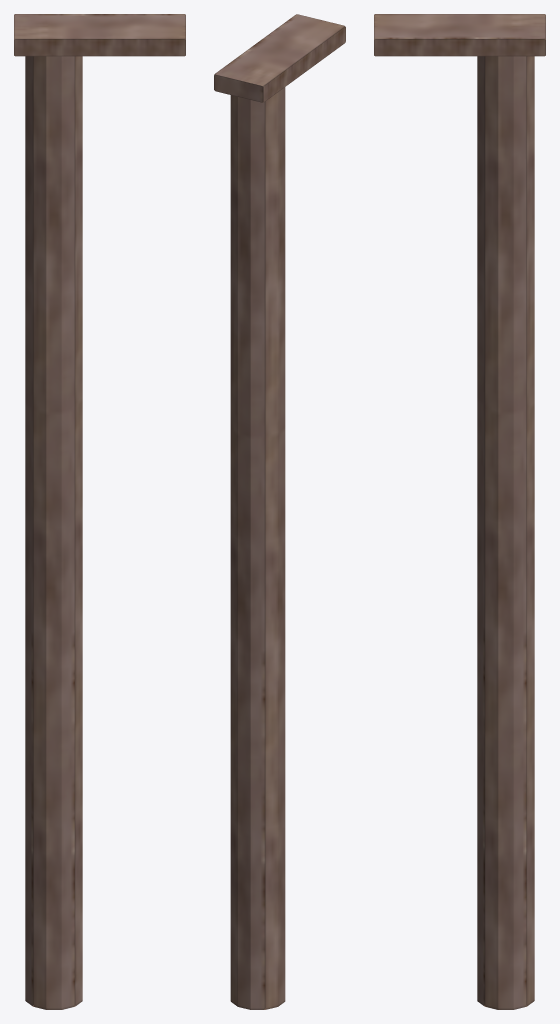
Rendered from lamppost.obj.
The picture shows the model from 3 angles, left to right: view 1: azimuth 90°, elevation 25°; view 2: azimuth 150°, elevation 25°; view 3: azimuth 270°, elevation 25°; orthographic projection. The views are drawn at different scales.
Visible parts, largest first — view 1: cylinder, mesh; view 2: cylinder, mesh; view 3: cylinder, mesh.
Part boxes in pixels (x1,y1,x2,y2): cylinder: [25, 56, 82, 1009]; mesh: [14, 14, 185, 56]; cylinder: [230, 86, 285, 1009]; mesh: [214, 14, 345, 102]; cylinder: [477, 56, 534, 1009]; mesh: [374, 14, 545, 56].
Size of the model in its own units: 0.1937 by 3.51 by 0.5625.
1 material, 1 textured.
